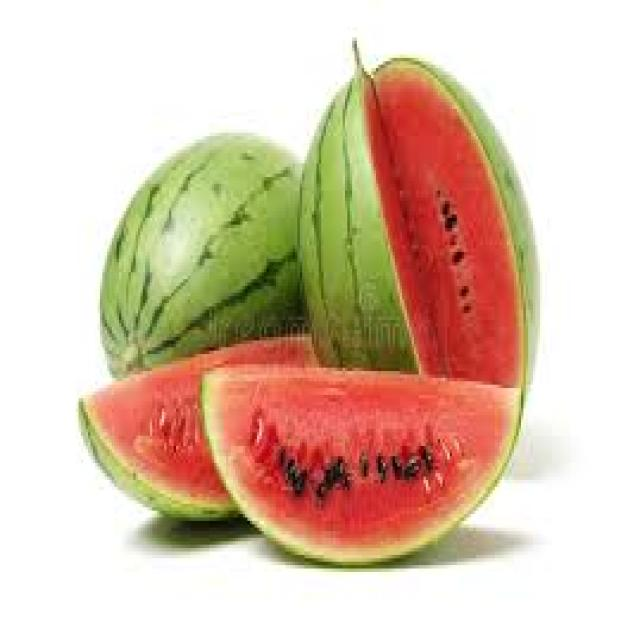watermelon: (301, 33, 547, 466), (197, 361, 524, 565), (98, 129, 304, 378), (76, 330, 317, 524)
